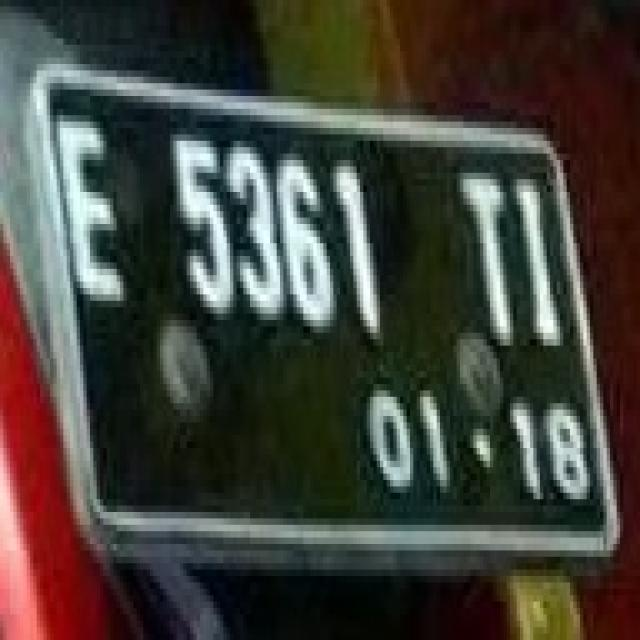plate: (33, 51, 637, 570)
